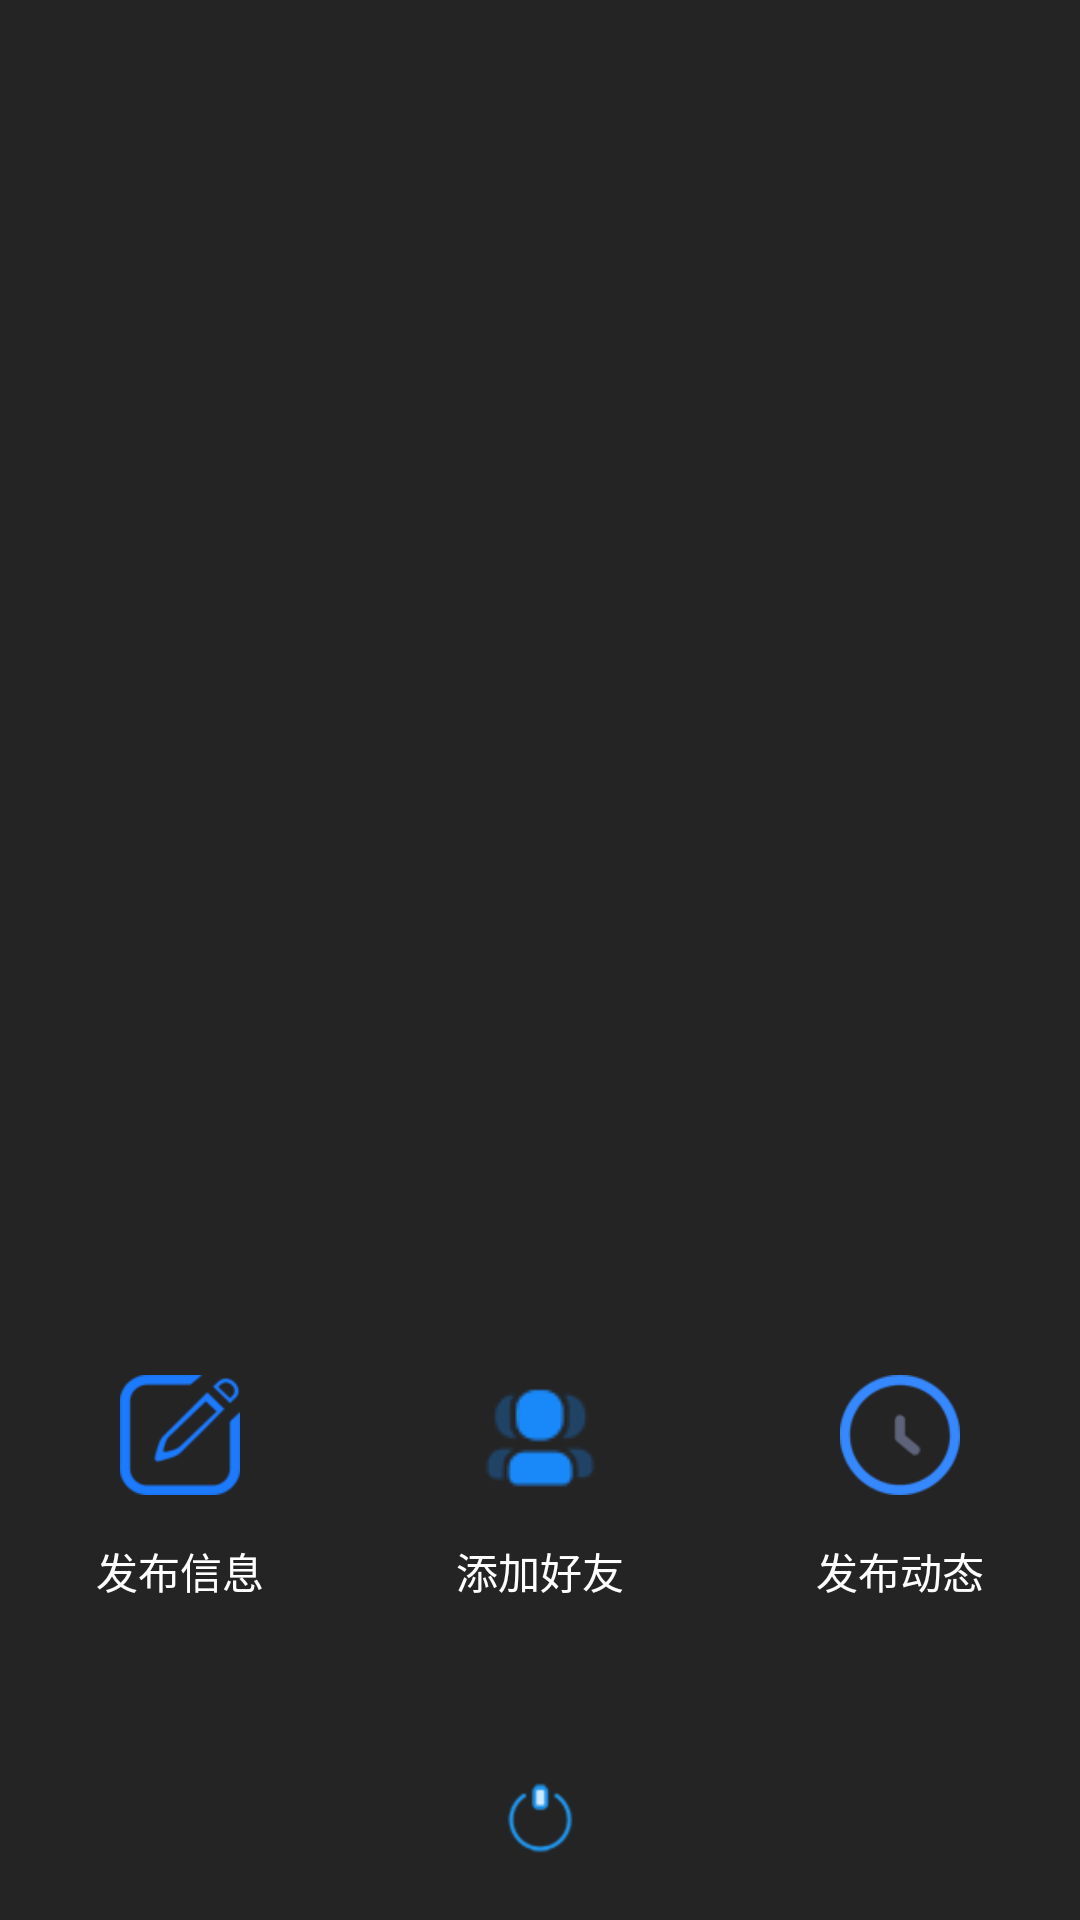

Screen size 1080 × 1920. Icon name, then its center in pixels as point (x, y):
history: point (900, 1435)
user friend: point (540, 1438)
user release: point (180, 1435)
